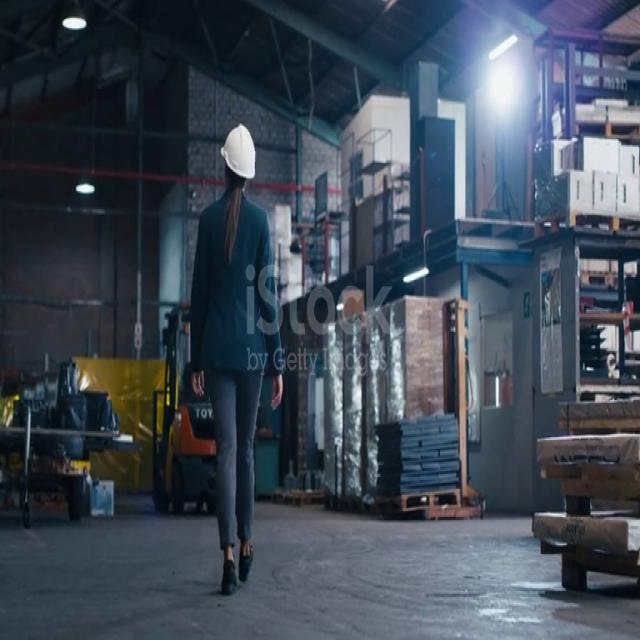capacete: (209, 104, 266, 194)
